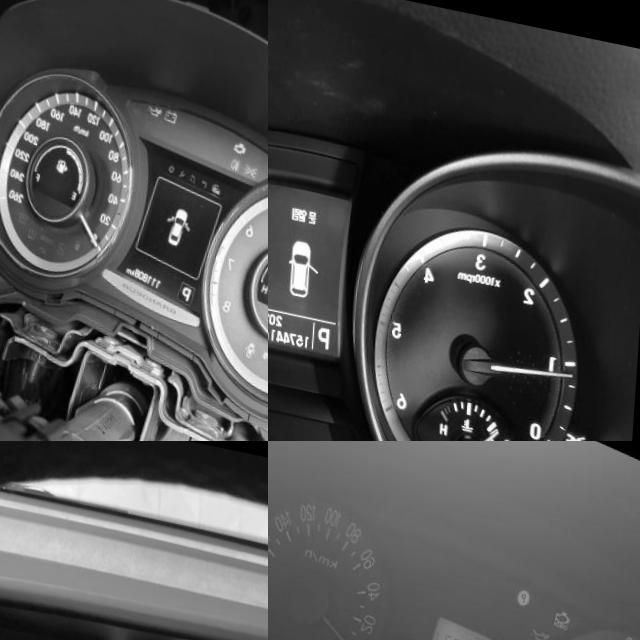Doors: (249, 320, 264, 341), (507, 415, 521, 434)
FrontFogLight: (233, 139, 245, 154)
SideLamp: (571, 406, 594, 428), (247, 144, 263, 160)
